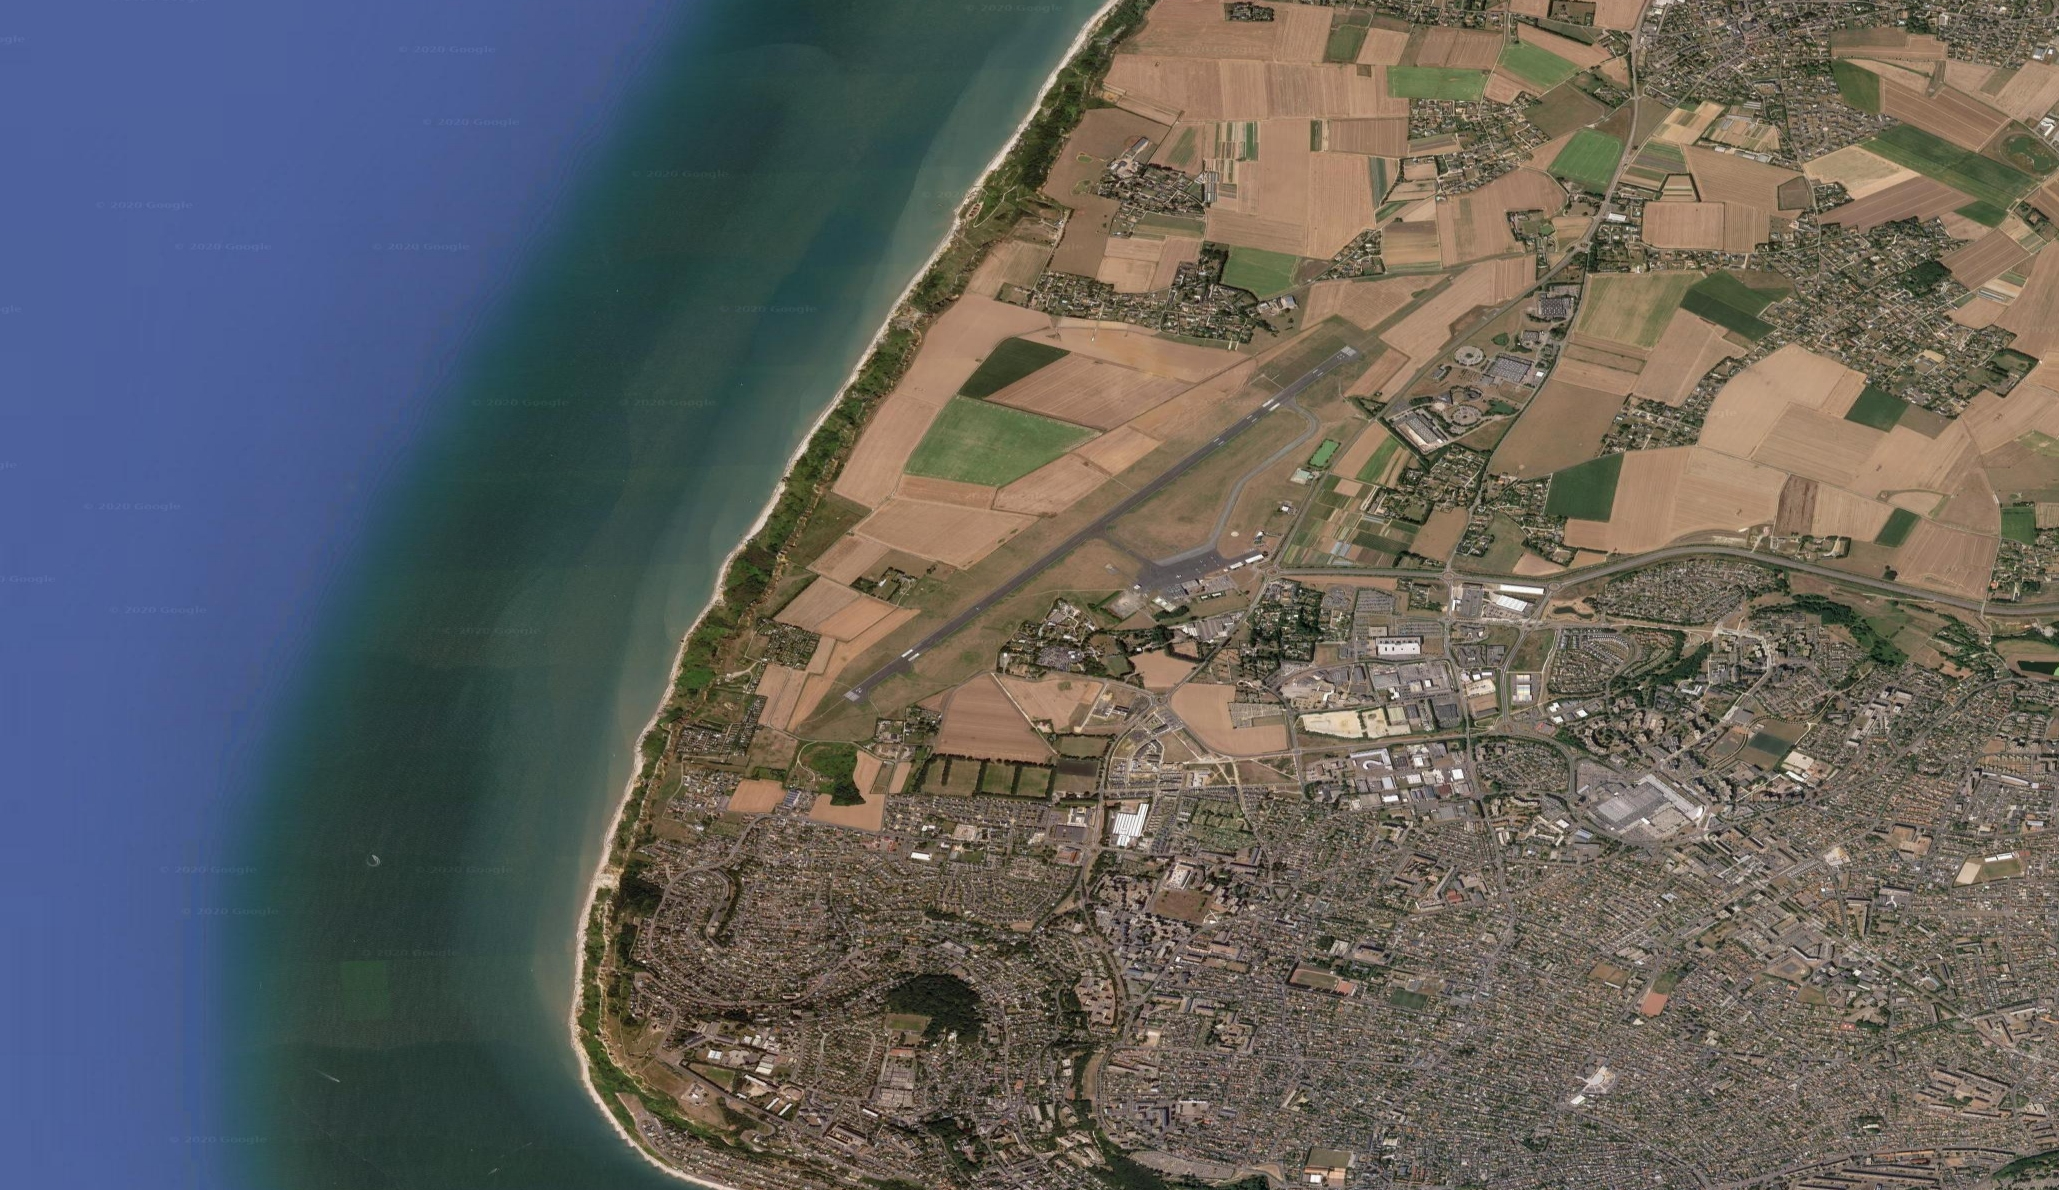airport: (838, 341, 1365, 705)
